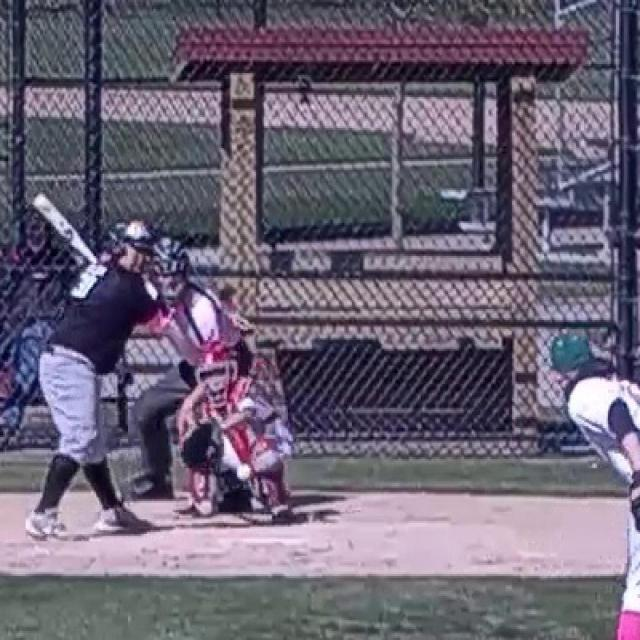baseball: (238, 465, 250, 479)
